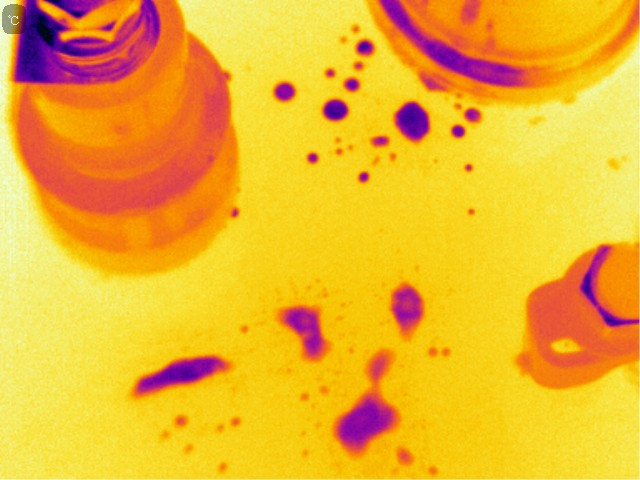Water: (341, 352, 398, 442), (292, 377, 332, 464), (280, 304, 327, 358), (133, 363, 223, 388), (385, 442, 446, 478), (389, 282, 422, 336), (393, 102, 431, 140), (318, 100, 349, 122), (226, 193, 245, 227), (211, 413, 246, 431), (463, 104, 493, 123), (210, 457, 236, 478), (271, 81, 296, 101), (344, 76, 367, 97), (330, 134, 353, 154), (444, 122, 467, 141), (177, 437, 195, 461), (171, 409, 191, 428), (154, 426, 175, 444), (355, 40, 380, 55), (370, 131, 389, 147), (426, 347, 449, 359), (302, 151, 320, 166), (358, 169, 374, 183), (323, 66, 335, 79), (464, 162, 475, 174), (468, 207, 475, 221)
